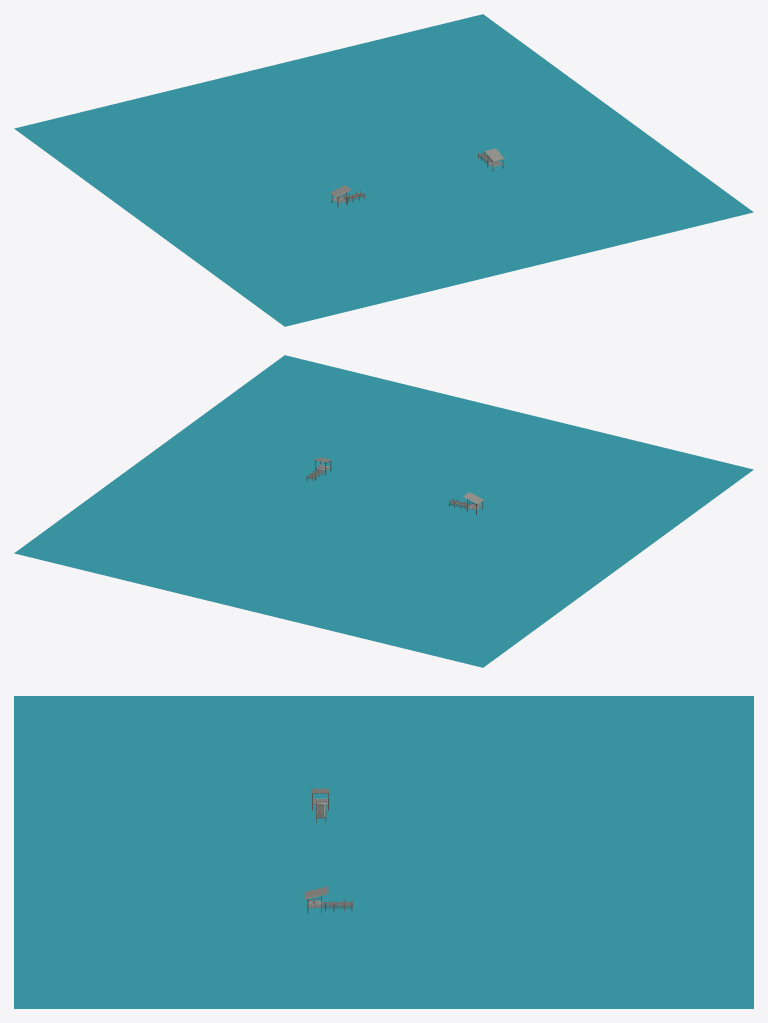
Rendered from coast-0-0.glb.
3 views of the same model, one above another, from view 1: azimuth 30°, elevation 25°; view 2: azimuth 150°, elevation 25°; view 3: azimuth 270°, elevation 25° (orthographic). The views are drawn at different scales.
Visible parts, largest first — view 1: coast-0-0; view 2: coast-0-0; view 3: coast-0-0.
Part boxes in pixels (x1,y1,x2,y2): coast-0-0: (14,14,753,326); coast-0-0: (14,355,753,667); coast-0-0: (14,696,753,1008).
Bounding box in the file's own units: 256 × 10.74 × 256.
Materials: 7 (7 with a texture image).
